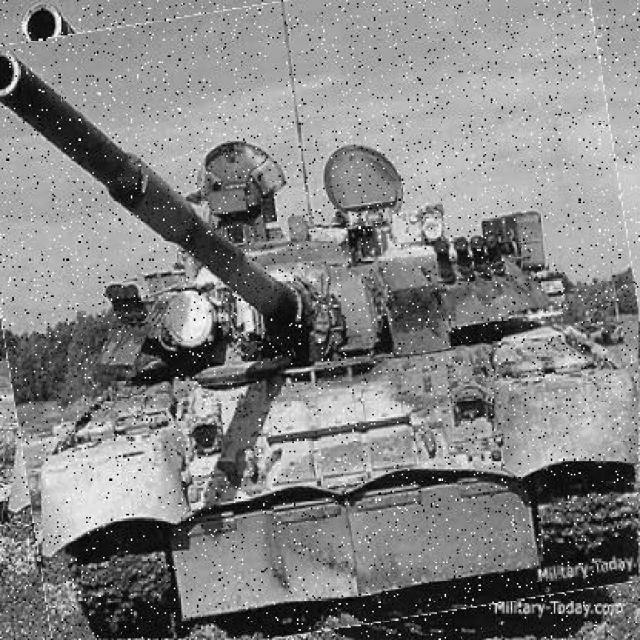Tank: (1, 1, 639, 639)
